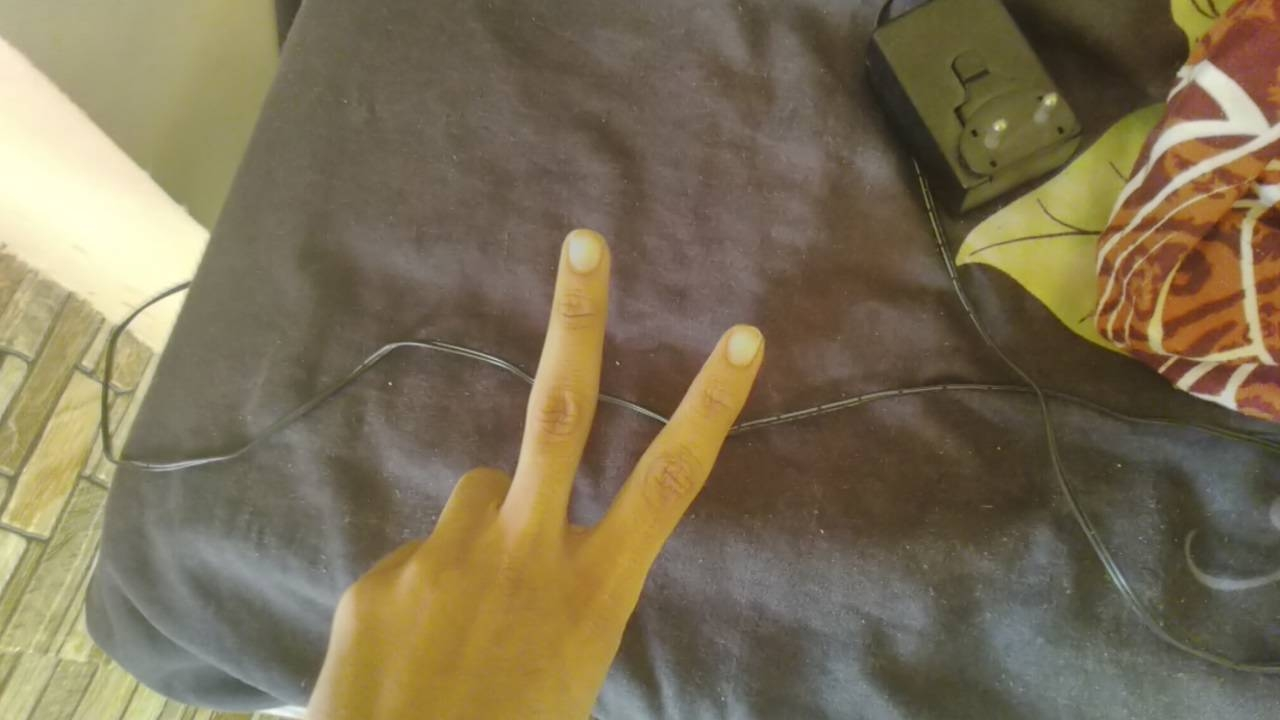fingertip: (552, 222, 612, 286), (710, 322, 768, 378)
